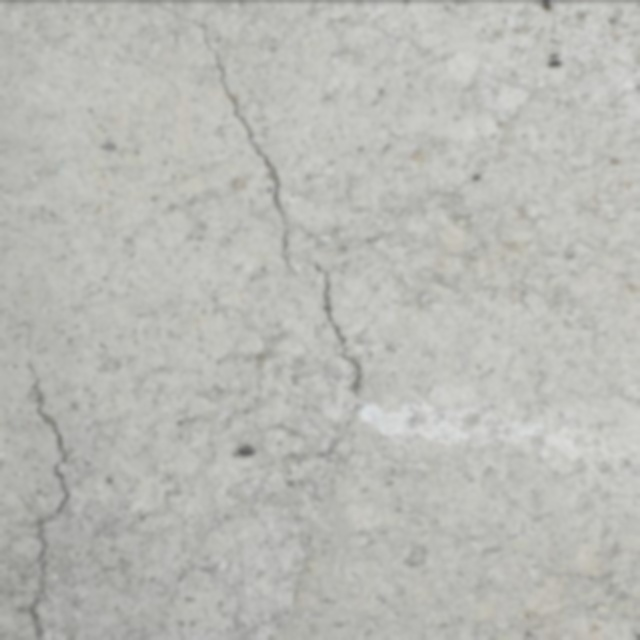SurfaceCrack: (141, 0, 410, 639)
